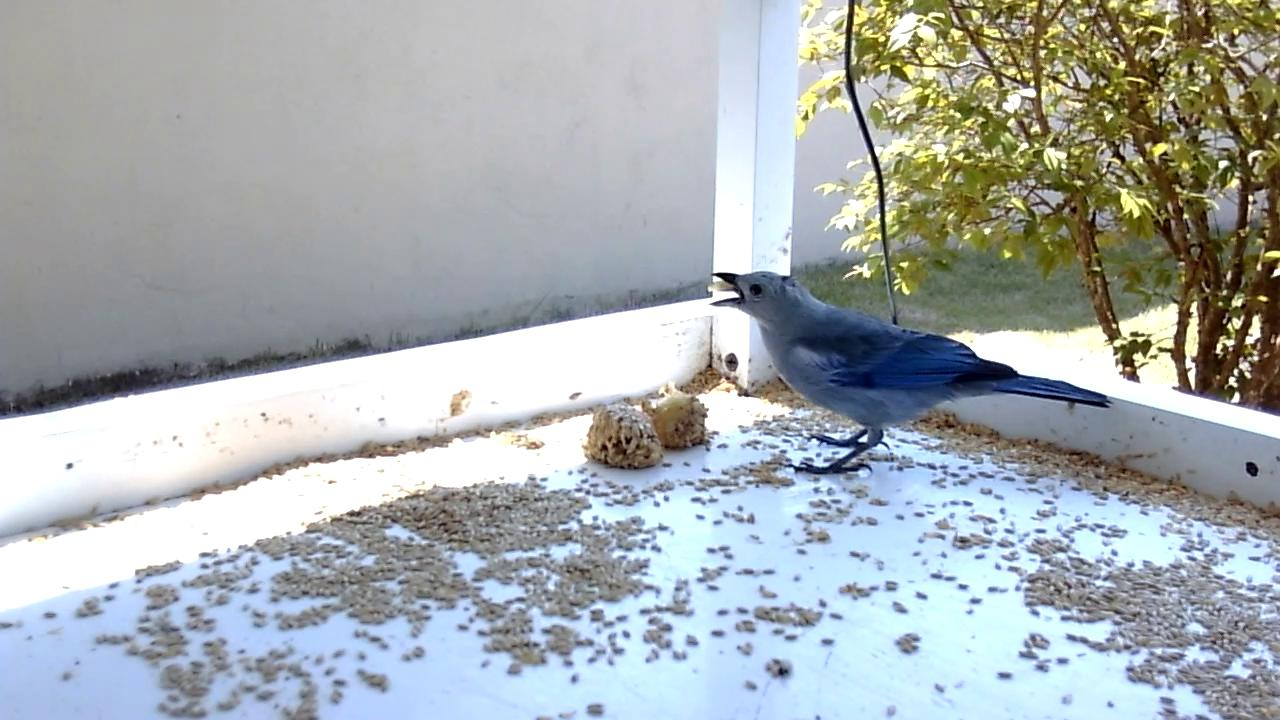sanhaco_da_amazonia: (706, 265, 1112, 479)
